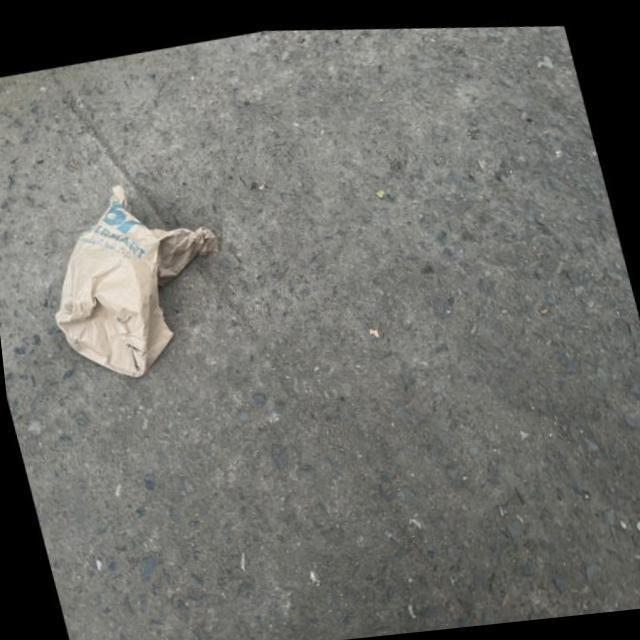Paper_Bag: (16, 148, 252, 402)
